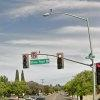Traffic light: (9, 44, 77, 78)
